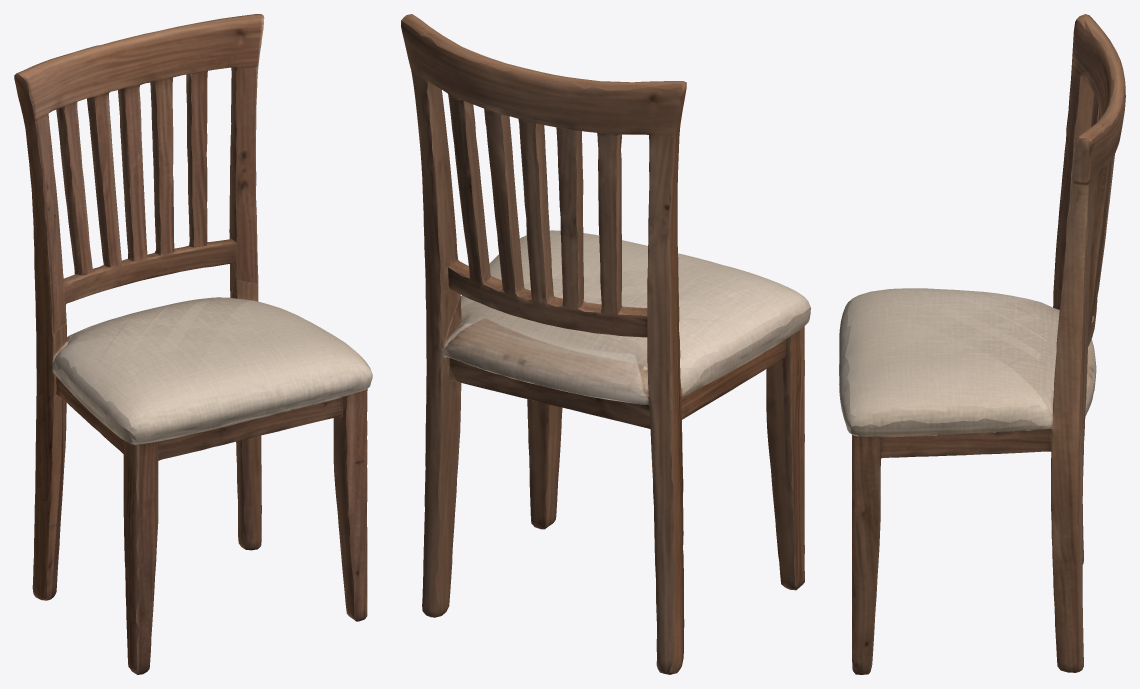
Rendered from mundane_dining_chair.glb.
3 views of the same model, side by side, from view 1: azimuth 30°, elevation 25°; view 2: azimuth 150°, elevation 25°; view 3: azimuth 270°, elevation 25° (orthographic). The views are drawn at different scales.
Parts seen in each view (by area): view 1: geometry_0; view 2: geometry_0; view 3: geometry_0.
Part boxes in pixels (bbox=[...]): geometry_0: bbox=[14, 14, 372, 674]; geometry_0: bbox=[401, 14, 810, 674]; geometry_0: bbox=[839, 14, 1125, 674].
Size of the model in its own units: 0.4454 by 0.9 by 0.4313.
Materials: 1 (1 with a texture image).
